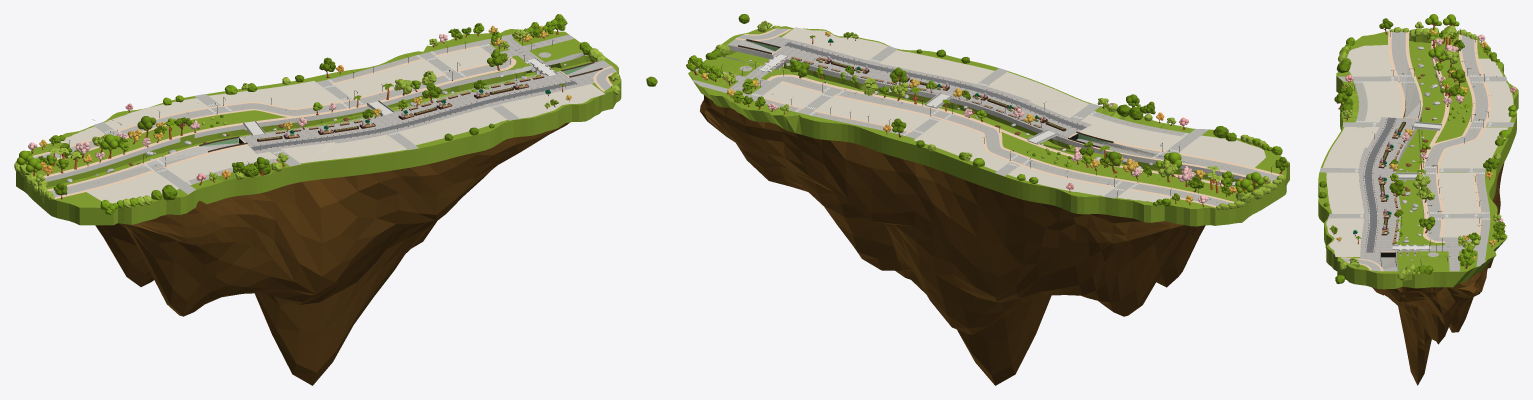
Rendered from isla_terreno.glb.
The picture shows the model from 3 angles, left to right: view 1: azimuth 30°, elevation 25°; view 2: azimuth 150°, elevation 25°; view 3: azimuth 270°, elevation 25°; orthographic projection. The views are drawn at different scales.
Visible parts, largest first — view 1: isla_cesped_003001_023, isla_cesped_003_022, cuadras_pavimento_024_021, bulevar_peatonal_006_010, calle_av1norte_015_011, rio_muros_004_031, Plane_041, ciclorruta_012_018, calle_av_colombia_oeste_007_013, anden_norte_rio_011_007, calle_norte_2_016_016, suelo_gato_del_rio_036_032 (+2 smaller); view 2: isla_cesped_003001_023, isla_cesped_003_022, cuadras_pavimento_024_021, bulevar_peatonal_006_010, calle_av1norte_015_011, Plane_041, rio_muros_004_031, ciclorruta_012_018, calle_av_colombia_oeste_007_013, anden_av1norte_021_001, anden_norte_rio_011_007, calle_norte_2_016_016 (+3 smaller); view 3: isla_cesped_003_022, cuadras_pavimento_024_021, isla_cesped_003001_023, bulevar_peatonal_006_010, calle_av1norte_015_011, Plane_041, calle_av_colombia_oeste_007_013, ciclorruta_012_018, calle_norte_2_016_016, anden_av1norte_021_001, suelo_gato_del_rio_036_032, retreta_caminos_025001_042 (+15 smaller).
Part boxes in pixels (x1,y1,x2,y2): isla_cesped_003001_023: (95,122,569,385); isla_cesped_003_022: (16,29,621,225); cuadras_pavimento_024_021: (61,47,604,203); bulevar_peatonal_006_010: (241,71,580,153); calle_av1norte_015_011: (33,60,511,158); rio_muros_004_031: (45,52,587,181); Plane_041: (93,43,519,194); ciclorruta_012_018: (251,81,577,150); calle_av_colombia_oeste_007_013: (50,143,239,196); anden_norte_rio_011_007: (43,56,516,177); calle_norte_2_016_016: (316,33,530,85); suelo_gato_del_rio_036_032: (194,110,286,128); isla_cesped_003001_023: (700,95,1205,385); isla_cesped_003_022: (688,26,1289,226); cuadras_pavimento_024_021: (762,27,1265,202); bulevar_peatonal_006_010: (772,40,1091,138); calle_av1norte_015_011: (774,76,1230,205); Plane_041: (750,45,1208,198); rio_muros_004_031: (721,45,1251,180); ciclorruta_012_018: (784,42,1086,129); calle_av_colombia_oeste_007_013: (1076,138,1277,181); anden_av1norte_021_001: (781,81,1216,207); anden_norte_rio_011_007: (766,74,1251,193); calle_norte_2_016_016: (693,79,919,138); isla_cesped_003_022: (1318,31,1518,289); cuadras_pavimento_024_021: (1322,45,1513,256); isla_cesped_003001_023: (1372,163,1504,385); bulevar_peatonal_006_010: (1359,117,1419,252); calle_av1norte_015_011: (1423,35,1488,241); Plane_041: (1319,76,1514,241); calle_av_colombia_oeste_007_013: (1391,31,1420,118); ciclorruta_012_018: (1364,117,1395,252); calle_norte_2_016_016: (1476,168,1490,266); anden_av1norte_021_001: (1436,39,1491,237); suelo_gato_del_rio_036_032: (1435,112,1471,143); retreta_caminos_025001_042: (1420,241,1478,271).
Bounding box in the file's own units: 47.8 × 22.8 × 16.13.
162 materials, 3 textured.
